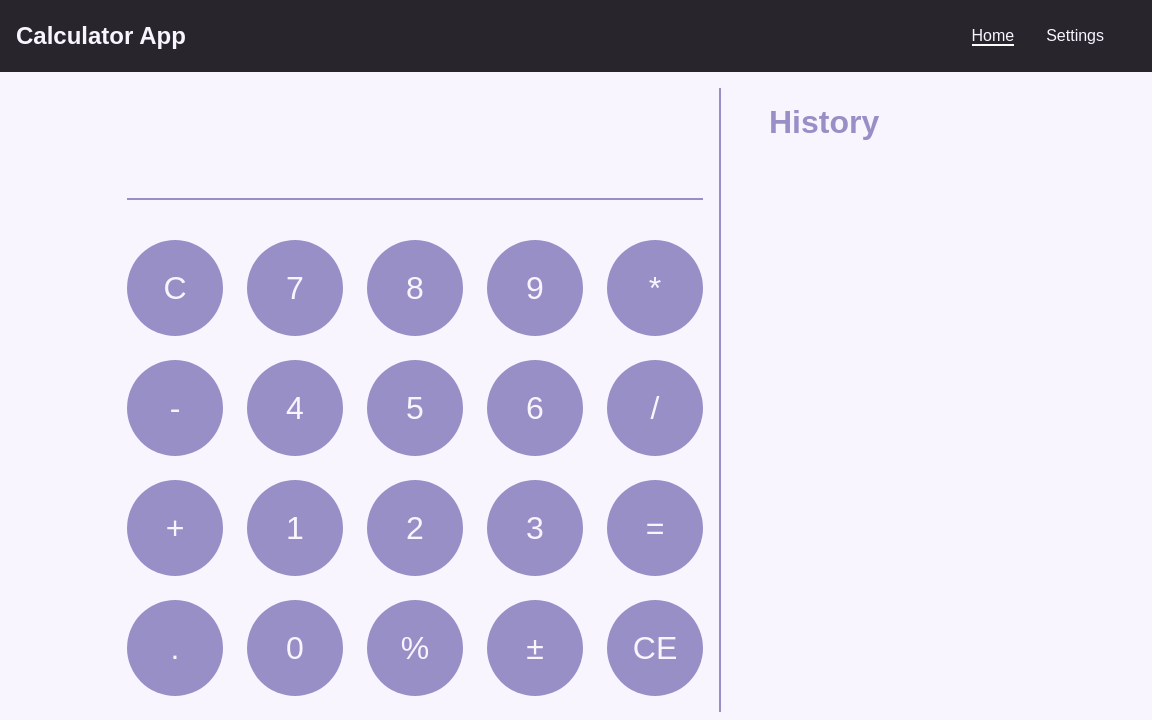
Test case: operations › multiply 4 * 2
The image size is (1152, 720).
Click the button "4".
click(295, 408)  # box [247, 360, 343, 456]
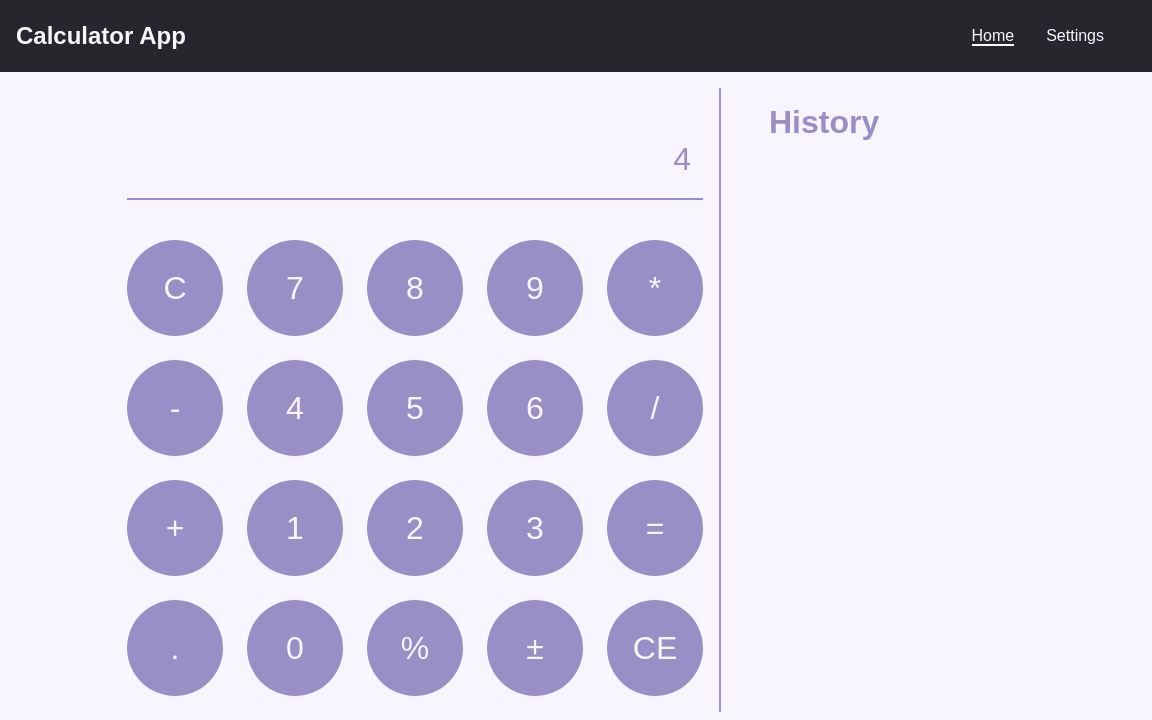
Click the button "*".
click(655, 288)  # box [607, 240, 703, 336]
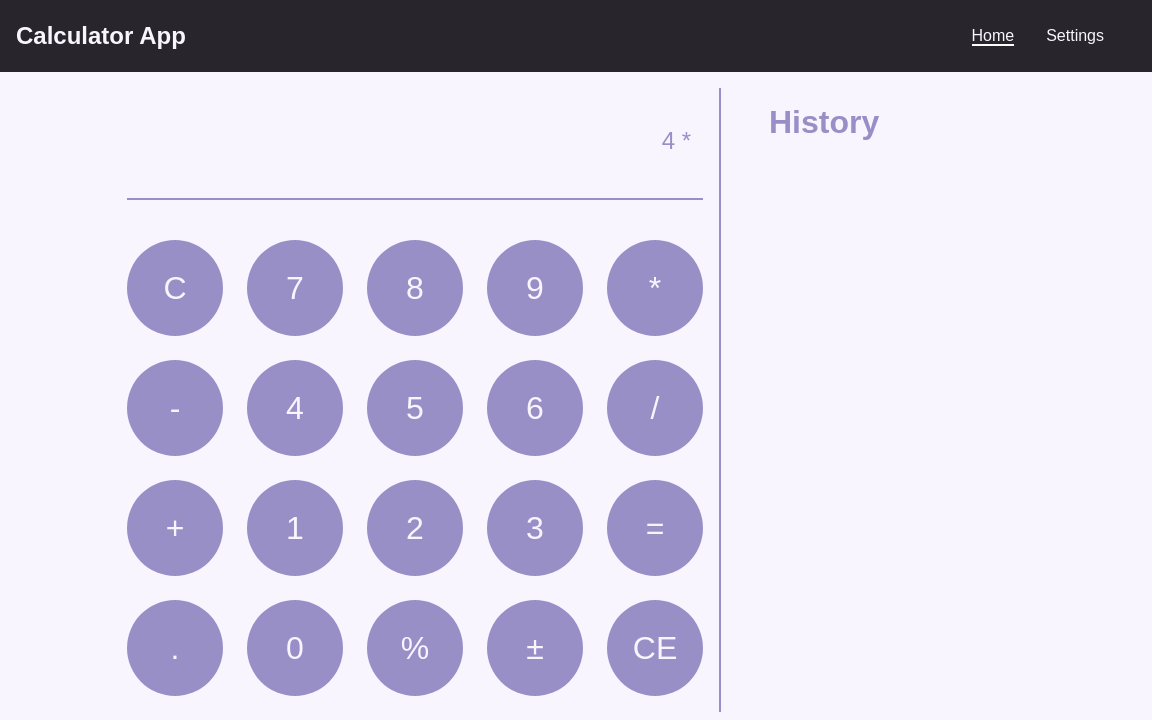
Click the button "2".
click(415, 528)  # box [367, 480, 463, 576]
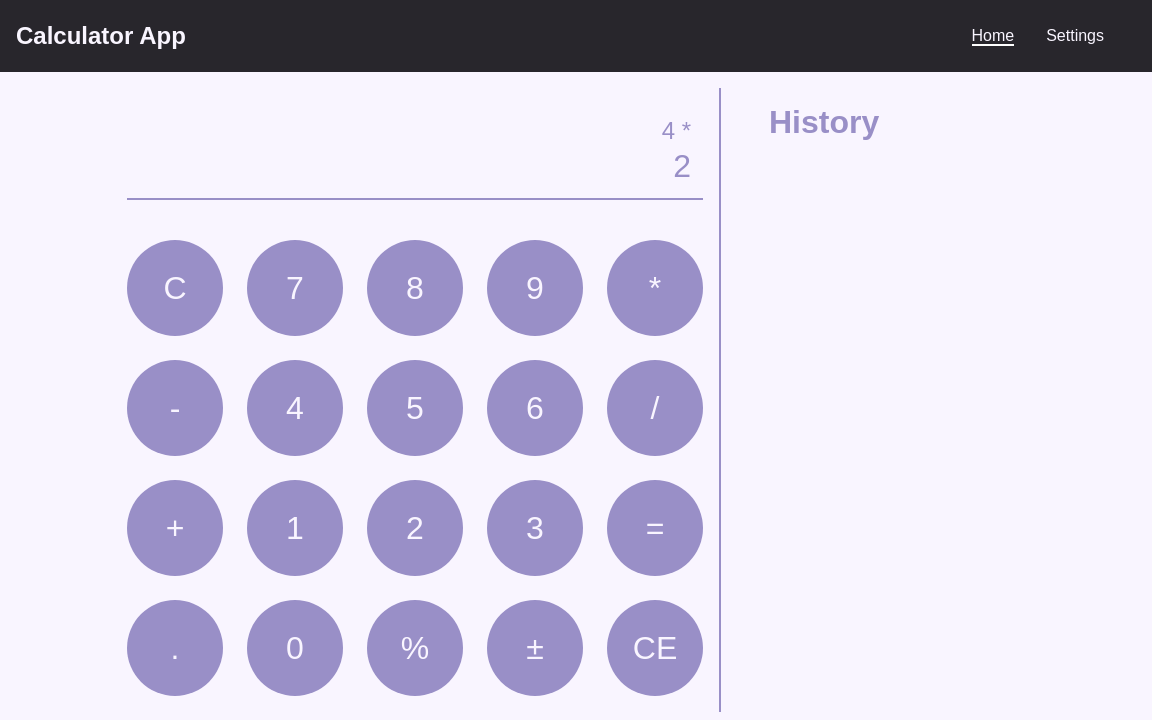
Click the button "=".
click(655, 528)  # box [607, 480, 703, 576]
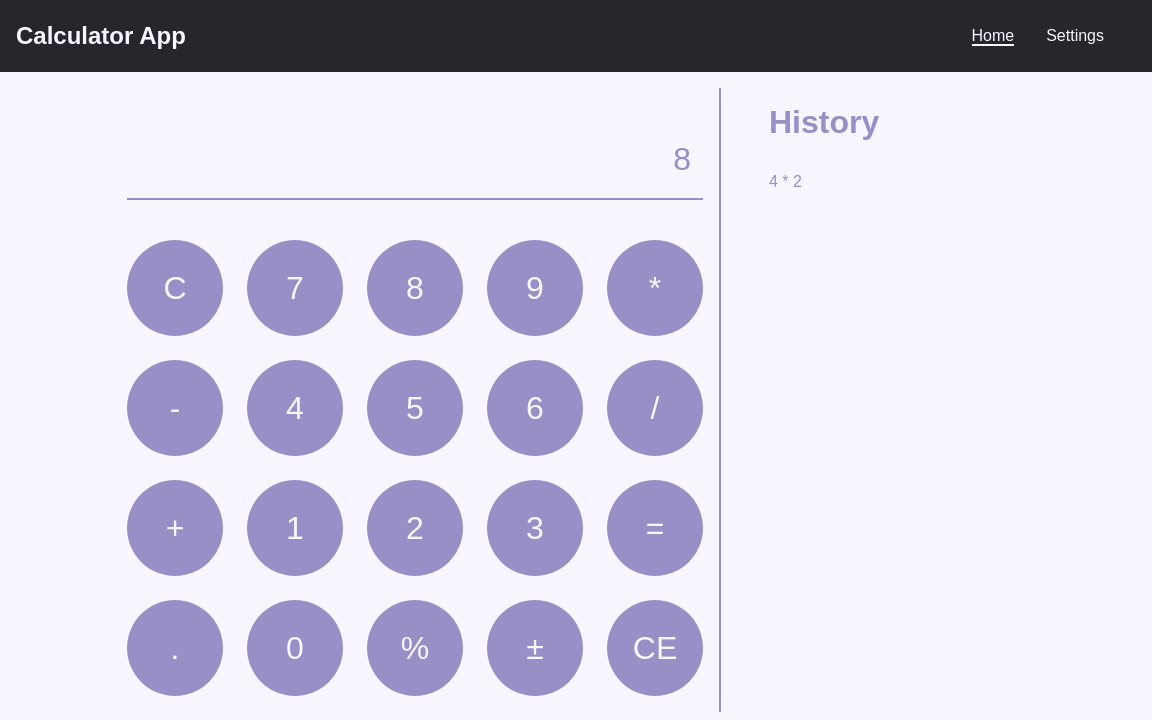
Result: the text "8" is shown at [673, 141, 691, 178]
